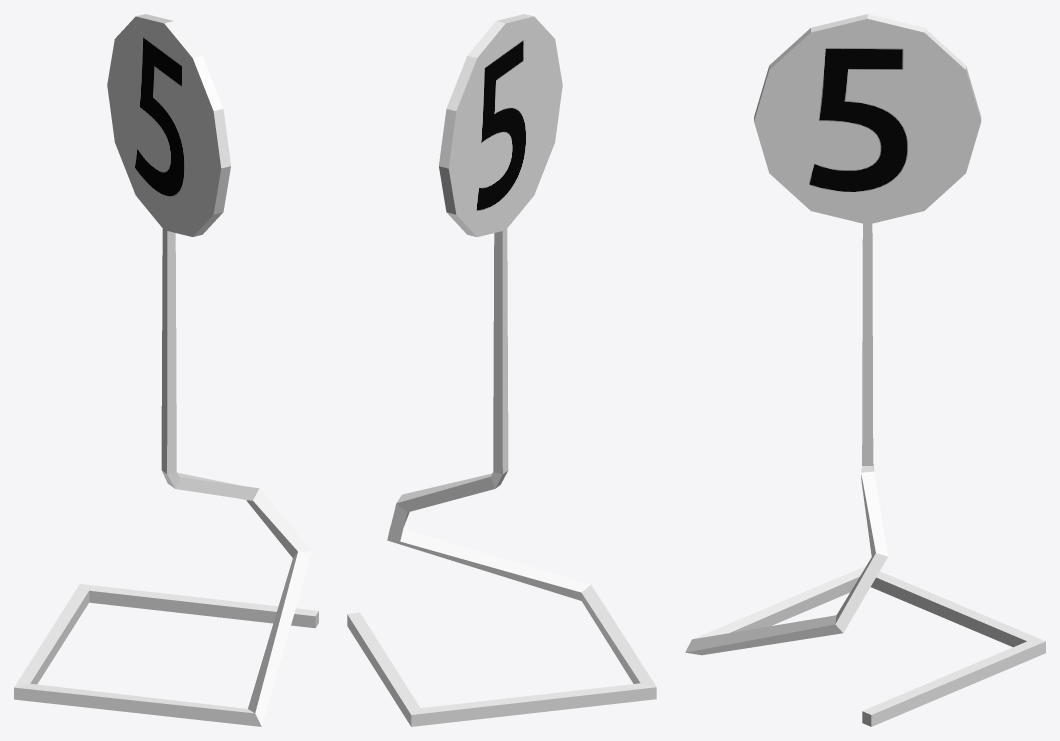
Rendered from Marker_5.FBX.
3 views of the same model, side by side, from view 1: azimuth 30°, elevation 25°; view 2: azimuth 150°, elevation 25°; view 3: azimuth 270°, elevation 25° (orthographic).
Visible parts, largest first — view 1: Marker_5; view 2: Marker_5; view 3: Marker_5.
Boxes of the visible parts, x1=… form: Marker_5: x1=14, y1=14, x2=318, y2=726; Marker_5: x1=347, y1=14, x2=656, y2=726; Marker_5: x1=685, y1=14, x2=1045, y2=726.
Size of the model in its own units: 4.03 by 8.02 by 4.11.
